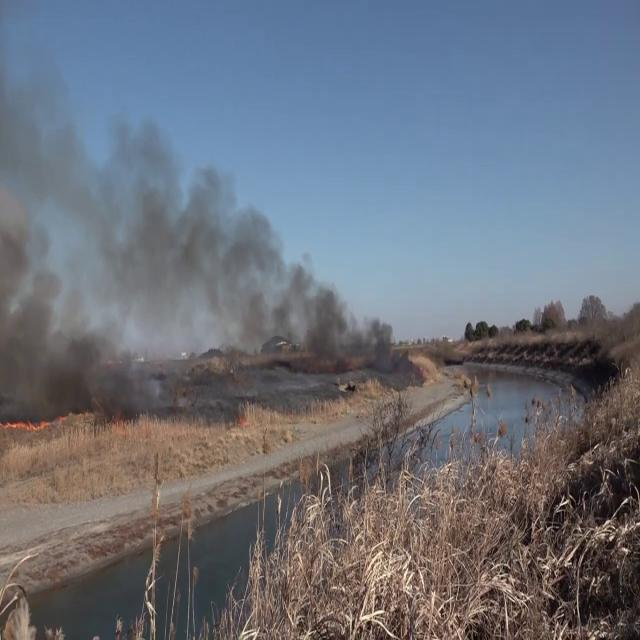Smoke: (1, 92, 410, 394)
